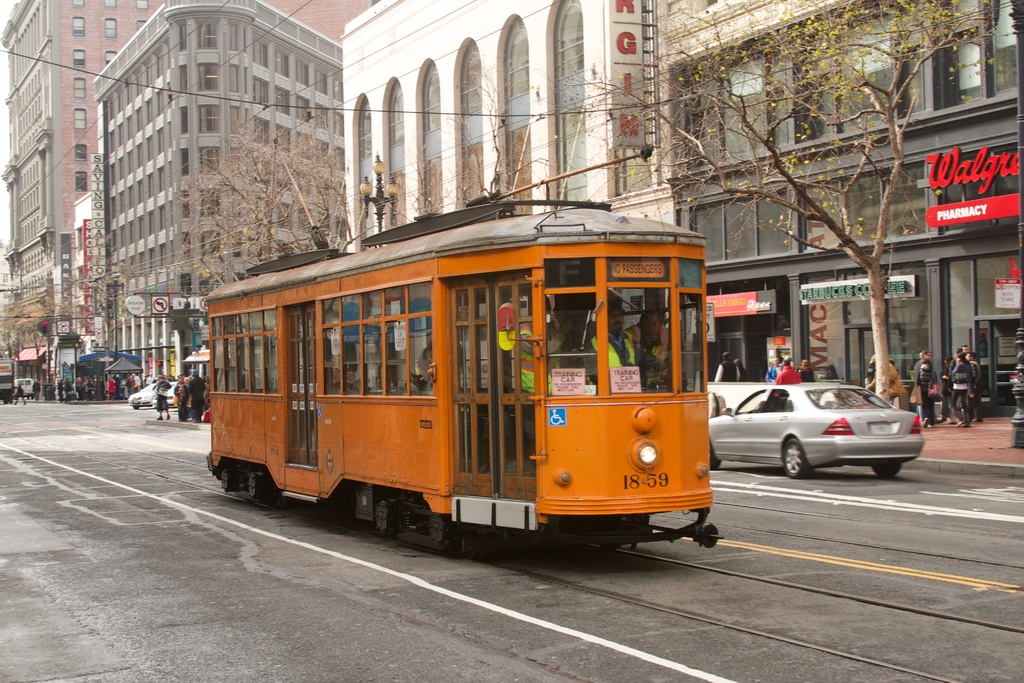Car: (706, 375, 922, 476), (126, 375, 187, 411)
